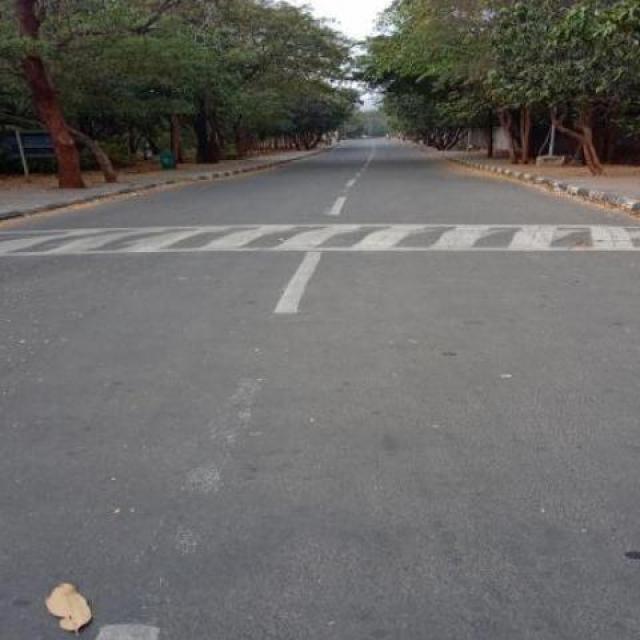Speed Bump: (1, 221, 639, 260)
